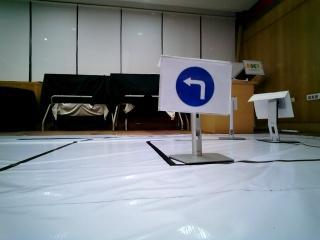left: (165, 60, 228, 113)
